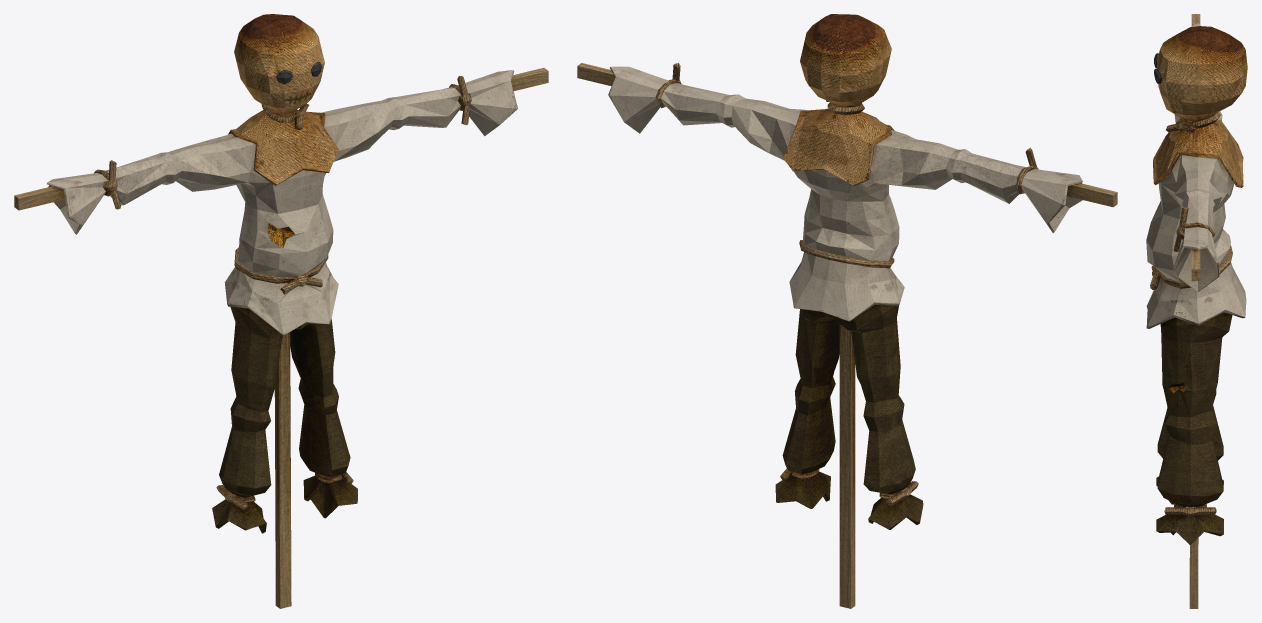
The model's file is scarecrow.obj.
3 renders of one model, left to right at view 1: azimuth 30°, elevation 25°; view 2: azimuth 150°, elevation 25°; view 3: azimuth 270°, elevation 25°, orthographic. The views are drawn at different scales.
Visible parts, largest first — view 1: Default; view 2: Default; view 3: Default.
Boxes of the visible parts, <box> form: Default: <box>14,14,548,608</box>; Default: <box>577,14,1117,608</box>; Default: <box>1146,14,1247,608</box>.
Size of the model in its own units: 1.69 by 1.78 by 0.2848.
Materials: 1 (1 with a texture image).
